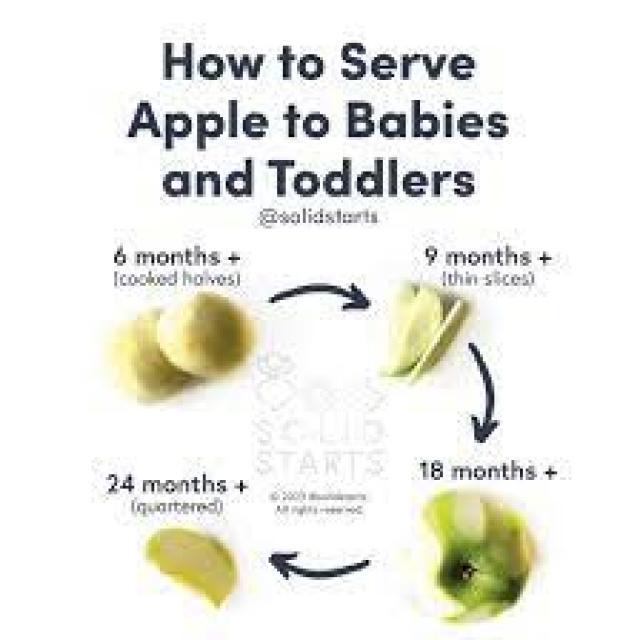Apple: (419, 499, 534, 628), (140, 526, 237, 611), (154, 292, 257, 372), (106, 312, 175, 402), (385, 274, 417, 357), (420, 288, 446, 374)
